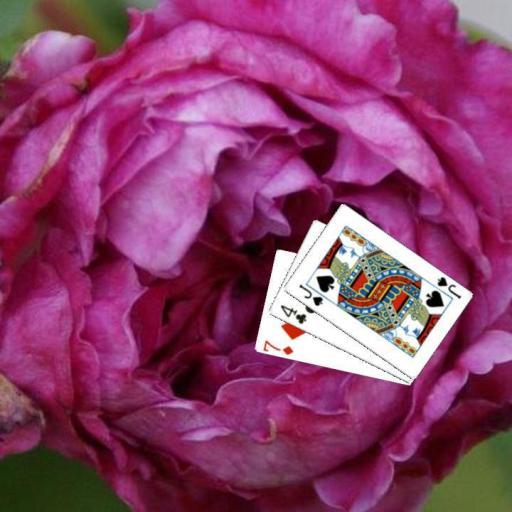card-corner: (295, 281, 324, 308), (433, 273, 462, 300), (277, 302, 308, 326), (260, 337, 294, 356)
